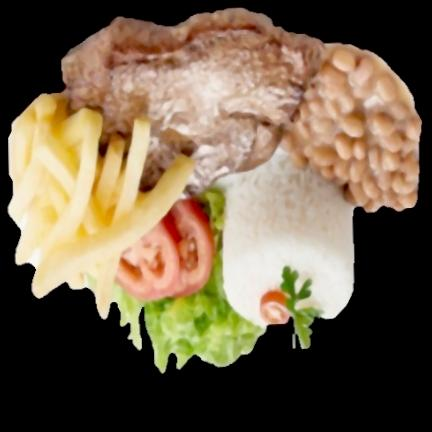beans: (285, 42, 421, 209)
meat: (57, 9, 317, 202)
potato: (10, 91, 195, 315)
rice: (216, 151, 354, 329)
salad: (110, 263, 264, 372)
tomato: (115, 194, 216, 302)
